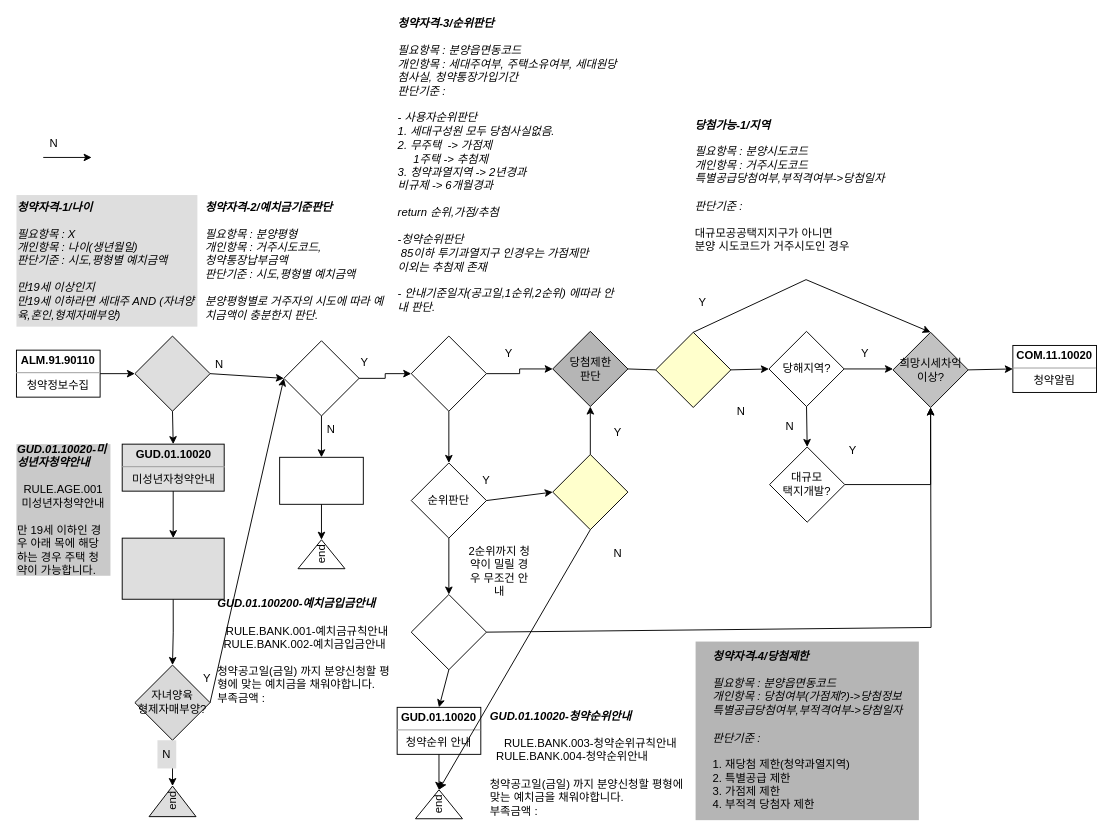
Some shapes in this 1113 by 836 pixel diagram are drawn without their labels. The shapes that lost their labels are listed below. From the top down, each one's centre as x and y in pixels, then its label:
At [172,373]: "나이판단 19세이상?".
At [321,378]: "예치금 기준이상".
At [448,373]: "추첨제 존재?".
At [693,369]: "미달 가능?".
At [321,480]: "GUD.01.10020 예치금입금안내".
At [590,492]: "가점 당첨 가능?".
At [172,568]: "COM.02.11010 청약자조건입력 미성년자입력".
At [448,632]: "차순위청약?".
